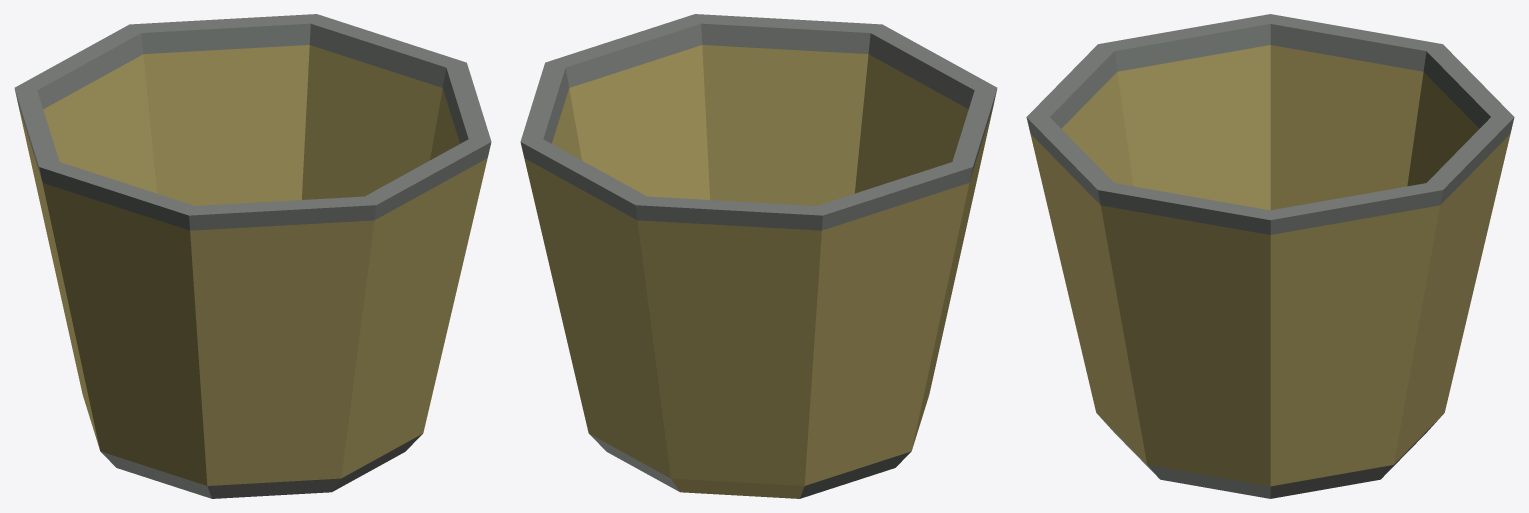
File: bucket02.fbx
The picture shows the model from 3 angles, left to right: view 1: azimuth 30°, elevation 25°; view 2: azimuth 150°, elevation 25°; view 3: azimuth 270°, elevation 25°; orthographic projection.
Visible parts, largest first — view 1: Torus.001; view 2: Torus.001; view 3: Torus.001.
Boxes of the visible parts, box(x1,y1,x2,y2) form: Torus.001: box(14, 14, 491, 498); Torus.001: box(520, 14, 997, 498); Torus.001: box(1026, 14, 1514, 498).
Bounding box in the file's own units: 0.4062 × 0.2902 × 0.4062.
